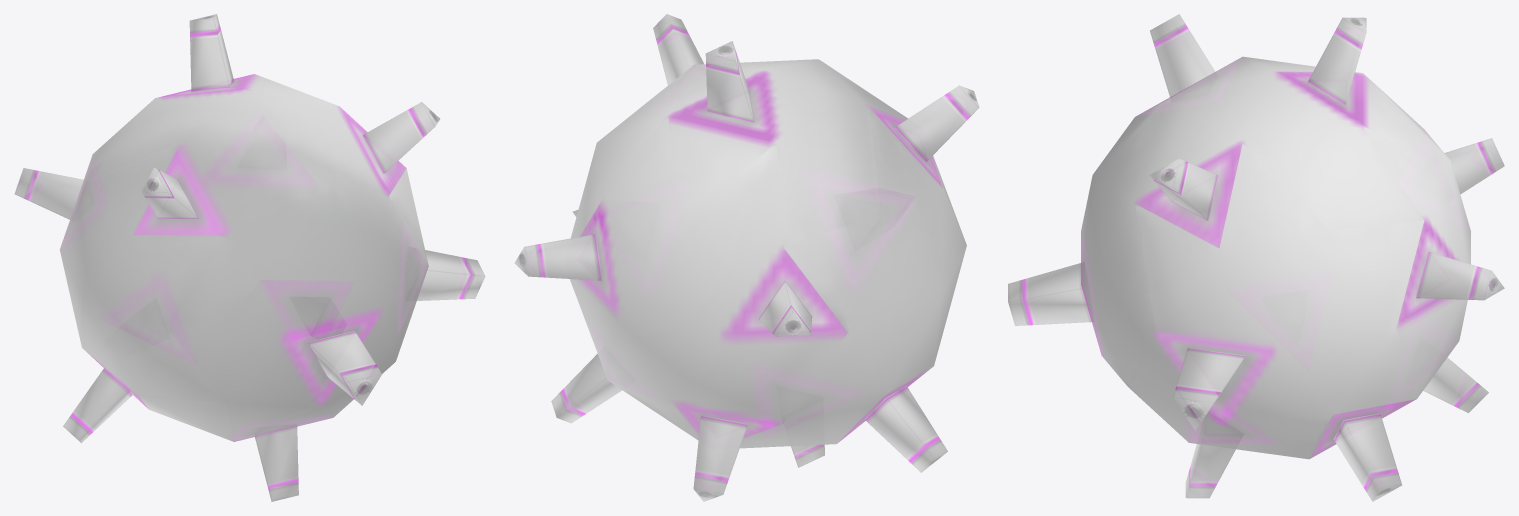
3 renders of one model, left to right at view 1: azimuth 30°, elevation 25°; view 2: azimuth 150°, elevation 25°; view 3: azimuth 270°, elevation 25°, orthographic. The views are drawn at different scales.
Parts seen in each view (by area): view 1: layer_00_oe0451U_0; view 2: layer_00_oe0451U_0; view 3: layer_00_oe0451U_0.
Boxes of the visible parts, bbox=[...] form: layer_00_oe0451U_0: bbox=[14, 14, 485, 501]; layer_00_oe0451U_0: bbox=[514, 14, 979, 501]; layer_00_oe0451U_0: bbox=[1008, 14, 1504, 501].
Bounding box in the file's own units: 5.44 × 6.05 × 5.67.
Materials: 1 (1 with a texture image).
